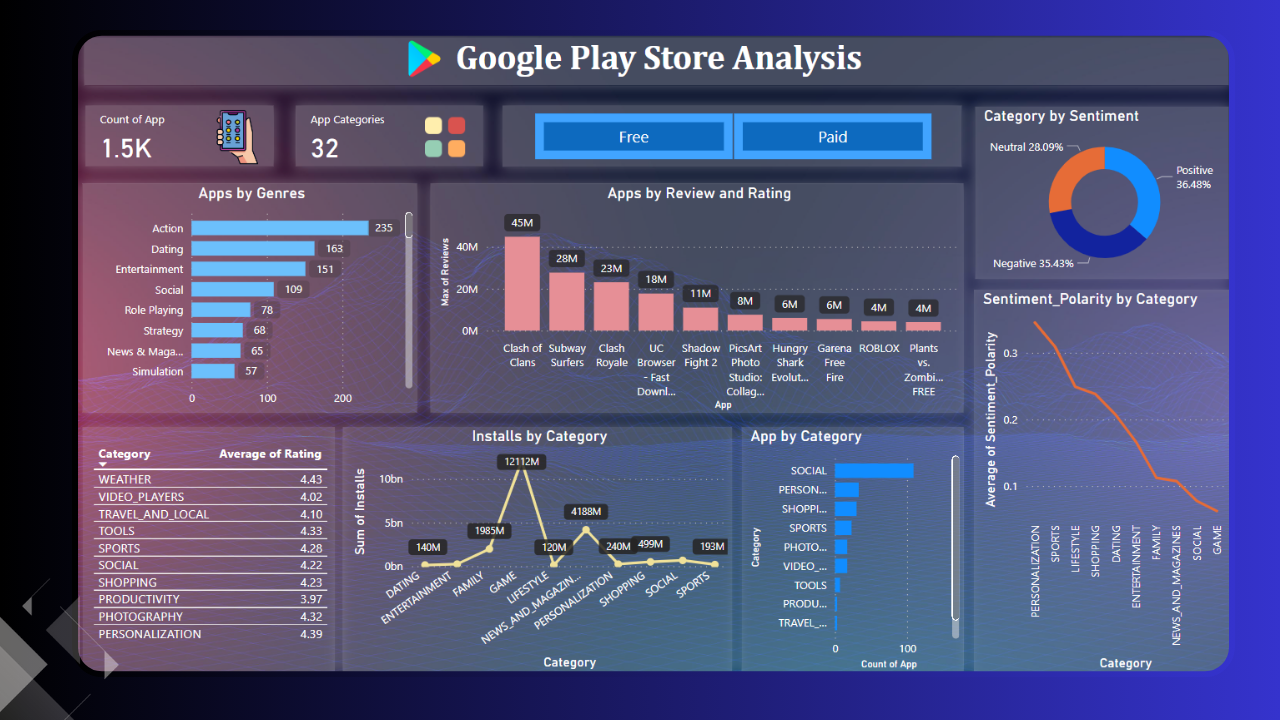

What the dashboard file says about the page in this screenshot:
{"tool":"powerbi","page":{"name":"Page 1","canvas":[1280,720],"ordinal":0},"visuals":[{"type":"cardVisual","fields":{"Data":["CountNonNull(googleplaystore.App)"]},"box":[14.3,85.7,207.1,67.1],"z":0},{"type":"cardVisual","title":"Total Categories","fields":{"Data":["googleplaystore.Total Categories"]},"box":[246.2,86.2,206.2,67.5],"z":1000},{"type":"barChart","title":"App by Category","fields":{"Category":["googleplaystore.Category"],"Y":["CountNonNull(googleplaystore.App)"]},"box":[736.2,441.2,245,270],"z":2000},{"type":"lineClusteredColumnComboChart","title":"Apps by Review and Rating  ","fields":{"Category":["googleplaystore.App"],"Y":["Max(googleplaystore.Reviews)"]},"box":[393.8,172.5,587.5,252.5],"z":3000},{"type":"clusteredBarChart","title":"Apps by Genres","fields":{"Y":["CountNonNull(googleplaystore.App)"],"Category":["googleplaystore.Genres"]},"box":[10,172.5,368.8,252.5],"z":4000},{"type":"tableEx","fields":{"Values":["googleplaystore.Category","Avg(googleplaystore.Rating)"]},"box":[10,441.2,278.8,270],"z":5000},{"type":"lineChart","title":"Installs by Category","fields":{"Category":["googleplaystore.Category"],"Y":["Sum(googleplaystore.Installs)"]},"box":[297.5,441.2,428.8,270],"z":6000},{"type":"lineChart","title":"Sentiment_Polarity by Category","fields":{"Y":["Avg(googleplaystore_user_reviews.Sentiment_Polarity)"],"Category":["googleplaystore.Category"]},"box":[992.9,290,281.4,422.9],"z":7000},{"type":"donutChart","title":"Category by Sentiment","fields":{"Y":["CountNonNull(googleplaystore.Category)"],"Category":["googleplaystore_user_reviews.Sentiment"]},"box":[993.8,87.5,280,190],"z":8000},{"type":"slicer","fields":{"Values":["googleplaystore.Type"]},"box":[473.3,86,506.8,68.1],"z":9000},{"type":"textbox","box":[12.5,10,1261.2,53.8],"z":10000},{"type":"image","box":[354.3,4.9,66.7,59.3],"z":11000},{"type":"image","box":[378.6,87.1,64.3,67.1],"z":12000},{"type":"image","box":[140,85.7,81.4,70],"z":13000}]}

Visuals, with their boxes in screenshot pixels (x1, y1, x2, y2), scaled from the page's 1280x720 canvas onto the 1280x720 screenshot:
cardVisual - CountNonNull(googleplaystore.App): bbox=[14, 86, 221, 153]
"Total Categories" cardVisual: bbox=[246, 86, 452, 154]
"App by Category" barChart: bbox=[736, 441, 981, 711]
"Apps by Review and Rating  " lineClusteredColumnComboChart: bbox=[394, 172, 981, 425]
"Apps by Genres" clusteredBarChart: bbox=[10, 172, 379, 425]
tableEx - googleplaystore.Category x Avg(googleplaystore.Rating): bbox=[10, 441, 289, 711]
"Installs by Category" lineChart: bbox=[298, 441, 726, 711]
"Sentiment_Polarity by Category" lineChart: bbox=[993, 290, 1274, 713]
"Category by Sentiment" donutChart: bbox=[994, 88, 1274, 278]
slicer - googleplaystore.Type: bbox=[473, 86, 980, 154]
textbox: bbox=[12, 10, 1274, 64]
image: bbox=[354, 5, 421, 64]
image: bbox=[379, 87, 443, 154]
image: bbox=[140, 86, 221, 156]
